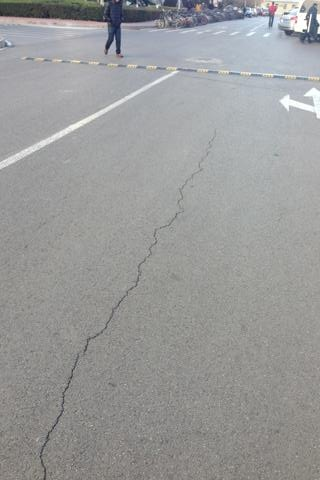A: (42, 133, 220, 480)
